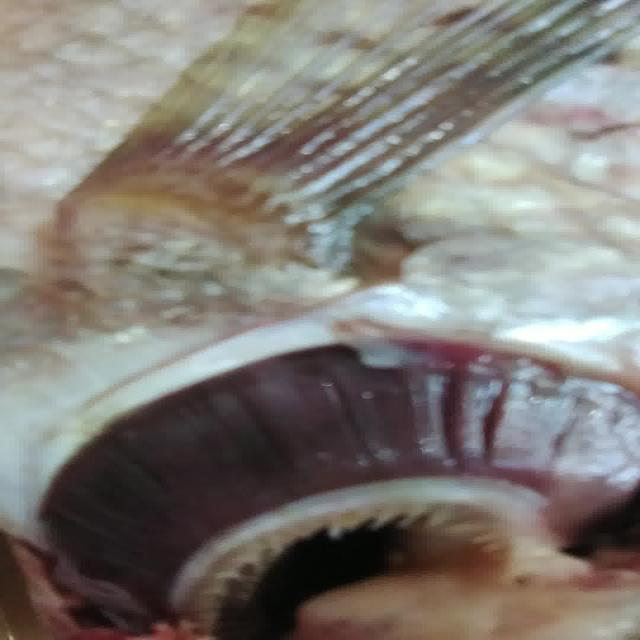Non-Fresh: (30, 316, 616, 606)
